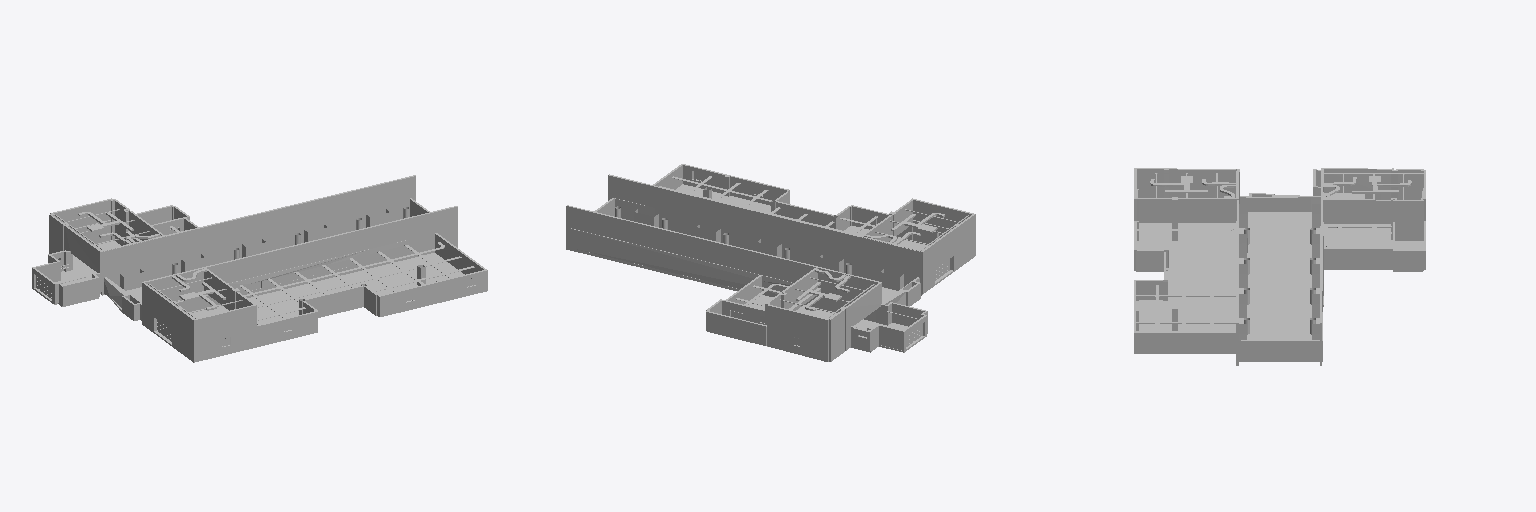
The model's file is iilab2x_c1.obj.
3 renders of one model, left to right at view 1: azimuth 30°, elevation 25°; view 2: azimuth 150°, elevation 25°; view 3: azimuth 270°, elevation 25°, orthographic.
Parts seen in each view (by area): view 1: Cube.003, Cube.002, Wall1, Wall3.001, Wall4.001, Floor, Cube, CealingFrame, Shafts, Ventilation, Ventilation_001; view 2: Wall1, Cube.002, Cube.003, Wall3.001, Wall4.001, Cube, Floor, Shafts, CealingFrame, Ventilation, Ventilation_001; view 3: Floor, Wall1, Wall3.001, Wall4.001, CealingFrame, Shafts, Cube, Ventilation, Ventilation_001, CealingFrame_001.
Part boxes in pixels (x1,y1,x2,y2): Cube.003: (101, 175, 415, 295); Cube.002: (144, 206, 457, 312); Wall1: (49, 198, 429, 297); Wall3.001: (142, 267, 258, 360); Wall4.001: (258, 233, 487, 344); Floor: (32, 240, 487, 362); Cube: (32, 250, 141, 319); CealingFrame: (172, 242, 474, 324); Shafts: (120, 209, 389, 290); Ventilation: (78, 212, 160, 243); Ventilation_001: (172, 269, 225, 310); Wall1: (571, 198, 881, 360); Cube.002: (608, 174, 922, 295); Cube.003: (566, 205, 875, 321); Wall3.001: (861, 198, 975, 292); Wall4.001: (653, 164, 907, 238); Cube: (851, 277, 927, 351); Floor: (571, 184, 975, 361); Shafts: (634, 209, 903, 290); CealingFrame: (659, 176, 877, 235); Ventilation: (796, 269, 850, 310); Ventilation_001: (864, 213, 944, 244); Floor: (1134, 193, 1423, 361); Wall1: (1236, 168, 1425, 360); Wall3.001: (1134, 168, 1238, 240); Wall4.001: (1134, 222, 1235, 352); CealingFrame: (1136, 196, 1235, 331); Shafts: (1239, 204, 1320, 340); Cube: (1240, 168, 1380, 211); Ventilation: (1324, 176, 1411, 198); Ventilation_001: (1150, 176, 1235, 197); CealingFrame_001: (1324, 226, 1391, 247).
Size of the model in its own units: 70.67 by 8.26 by 49.64.